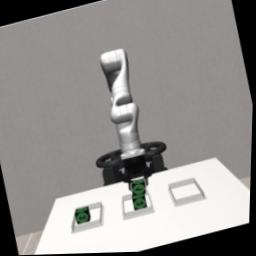cube1: (129, 177, 149, 198)
cube2: (130, 193, 149, 212)
cube3: (74, 206, 93, 224)
